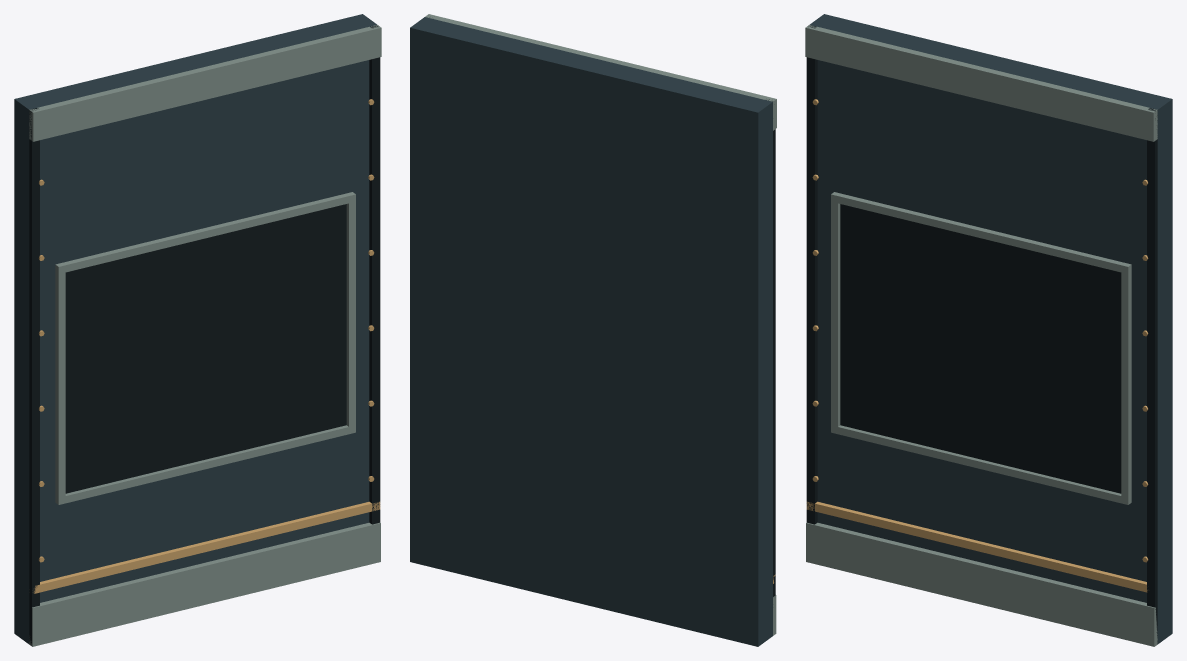
File: wall-bay-4p4.glb
3 renders of one model, left to right at view 1: azimuth 30°, elevation 25°; view 2: azimuth 150°, elevation 25°; view 3: azimuth 330°, elevation 25°, orthographic.
Visible parts, largest first — view 1: wall-bay-4p4; view 2: wall-bay-4p4; view 3: wall-bay-4p4.
Boxes of the visible parts, x1,y1,x2,y2 form: wall-bay-4p4: (14,14,381,646); wall-bay-4p4: (410,14,776,646); wall-bay-4p4: (805,14,1172,646).
Bounding box in the file's own units: 3 × 4.4 × 0.28.
